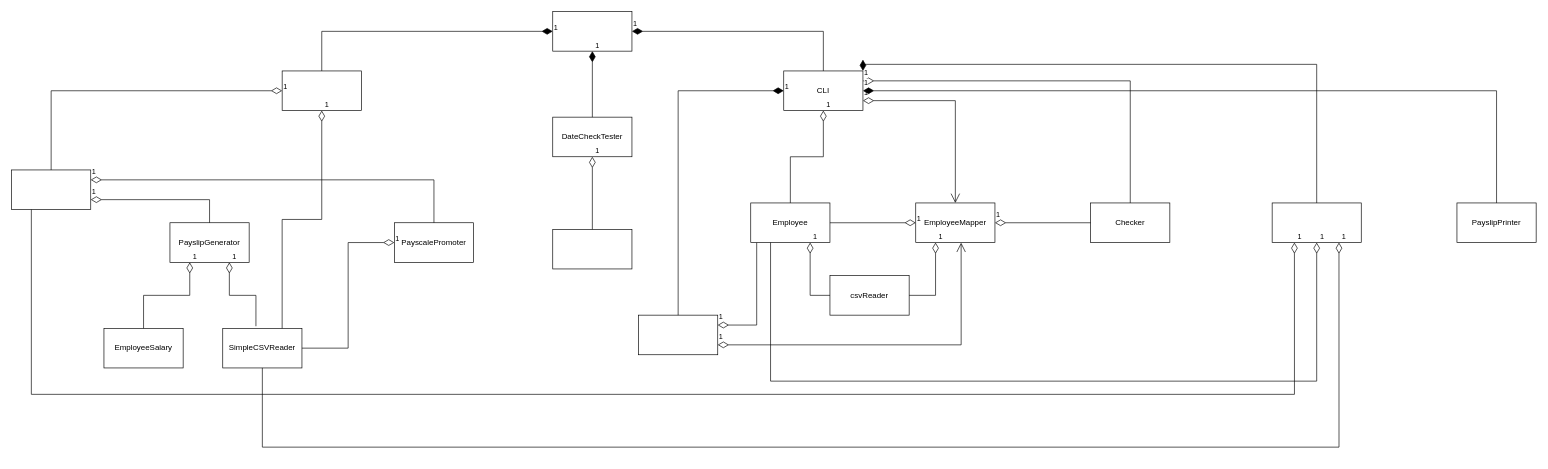
Some shapes in this 1548 by 469 pixel diagram are drawn without their labels. Each missing label, with the centre of its shape:
"CSVWriter" goes at [51,189].
"DateCheck" goes at [321,90].
"DateCheckFake" goes at [592,249].
"Login" goes at [678,334].
"Main" goes at [592,31].
"PartTimeHourCalculator" goes at [1316,222].
